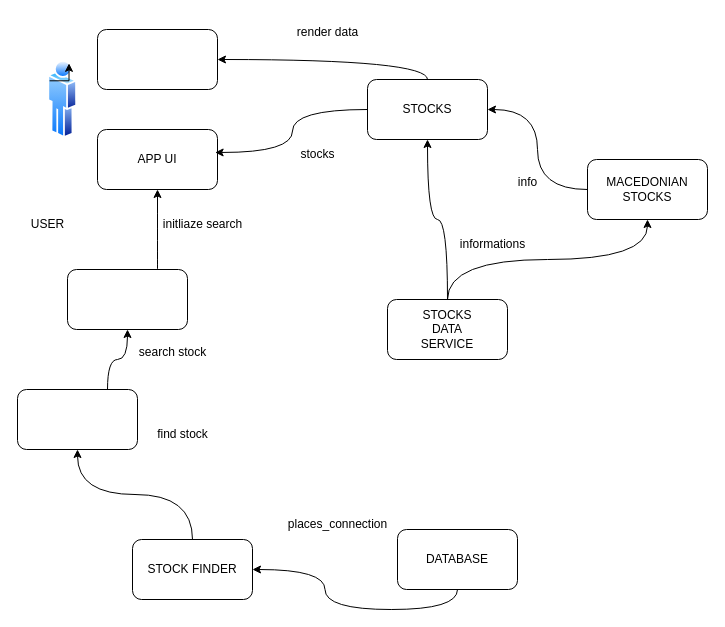
Some shapes in this 725 by 627 pixel diagram are drawn without their labels. Each missing label, with the centre of its shape:
"API GATEWAY" goes at point (127, 299).
"GRAPH SERVICE" goes at point (157, 59).
"SEARCH SERVICE" goes at point (77, 419).
